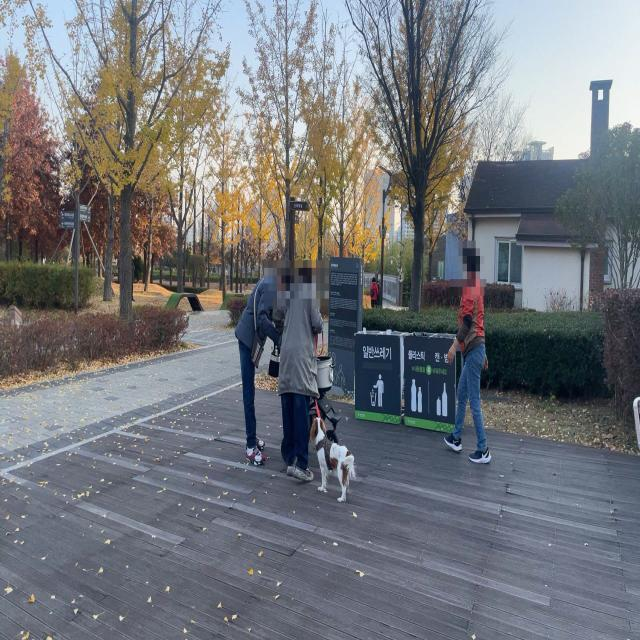Leashed_Dog: (300, 382, 356, 506)
